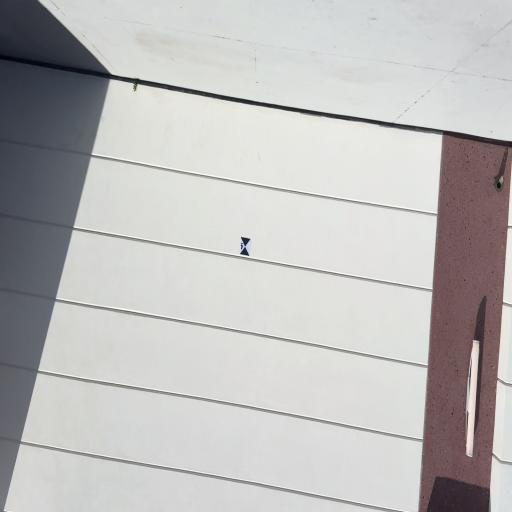target4: (239, 236, 251, 256)
